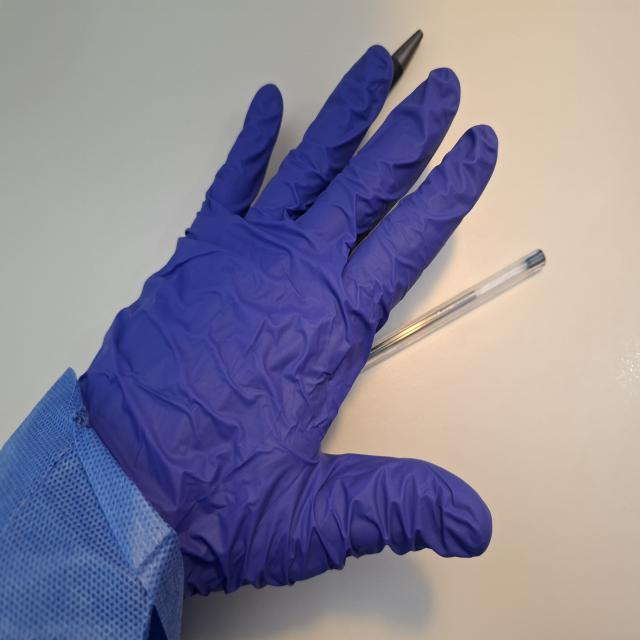glove_on: (72, 42, 500, 600)
